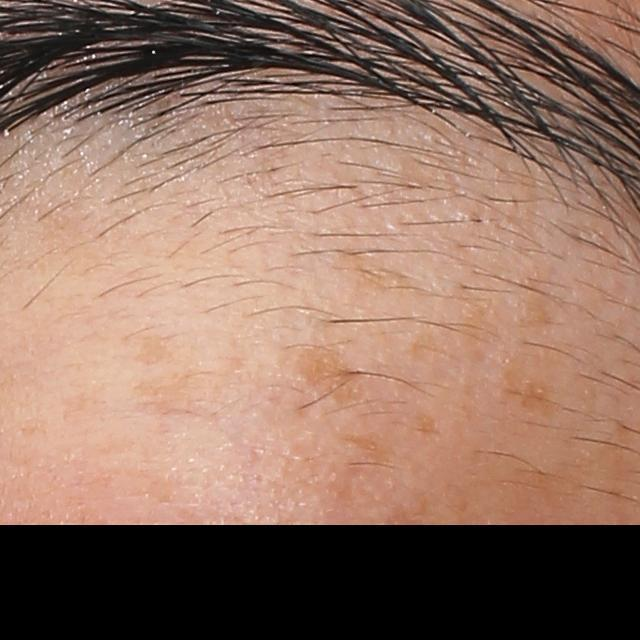melasma: (280, 341, 372, 417), (408, 302, 511, 365), (497, 367, 559, 416), (384, 495, 434, 541), (342, 429, 402, 466), (128, 333, 169, 367), (414, 407, 447, 439)
